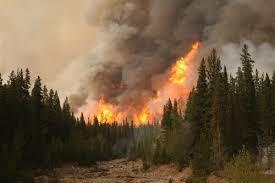fire: (88, 38, 203, 127)
